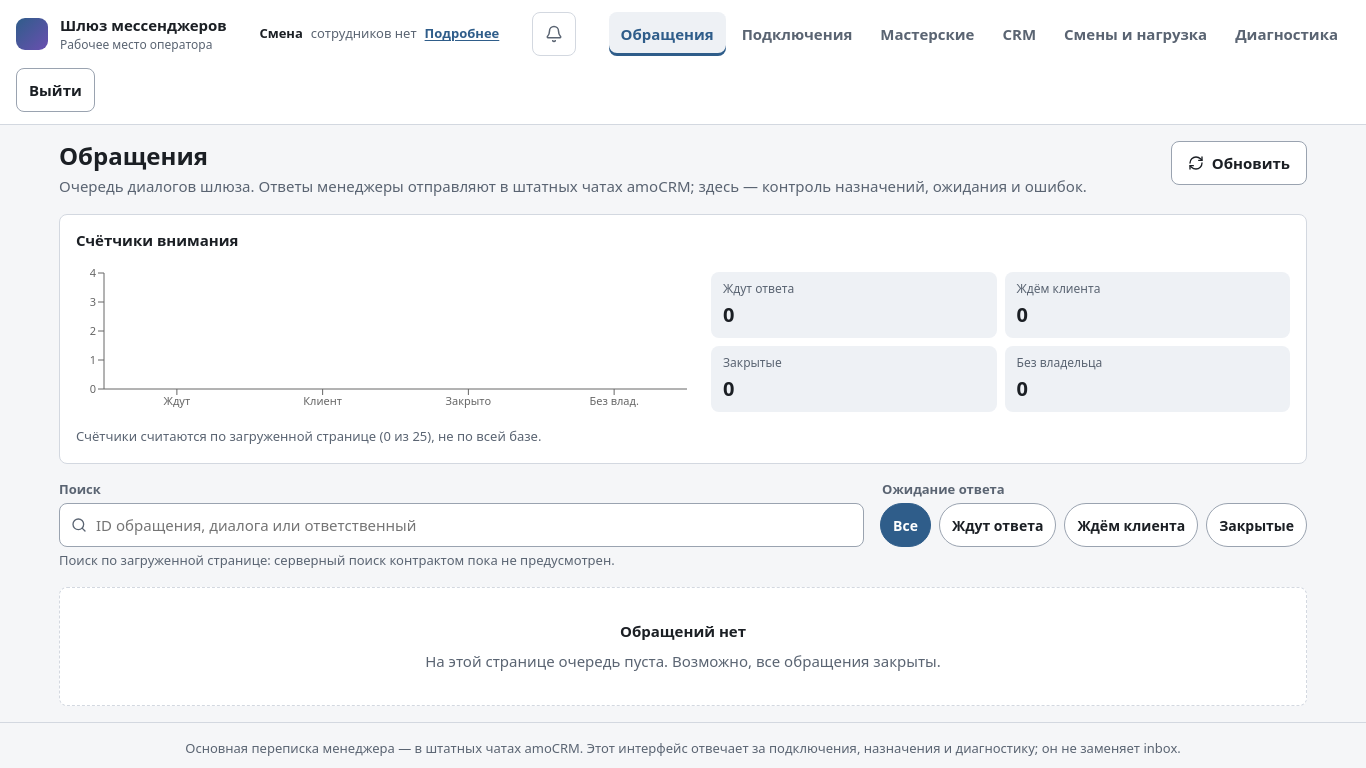
it: сессия и защита маршрутов › кнопка «Выйти» завершает сессию и ведёт на вход
Expected: the heading "Обращения" is shown, top-left (59, 139), bottom-right (208, 172)
Click the button "Выйти" at (55, 90), box top-left (16, 68), bottom-right (95, 112)
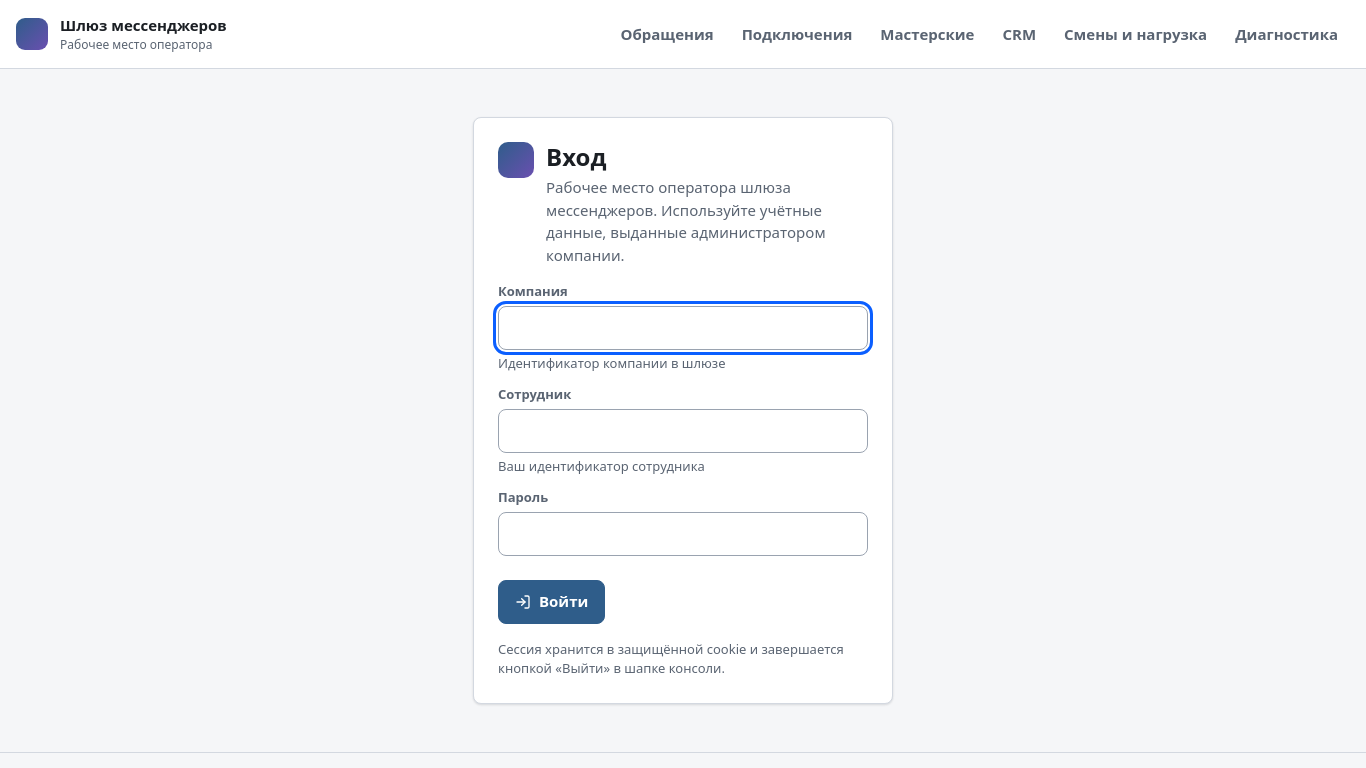
Expected: the heading "Вход" is shown, top-left (546, 140), bottom-right (606, 173)
